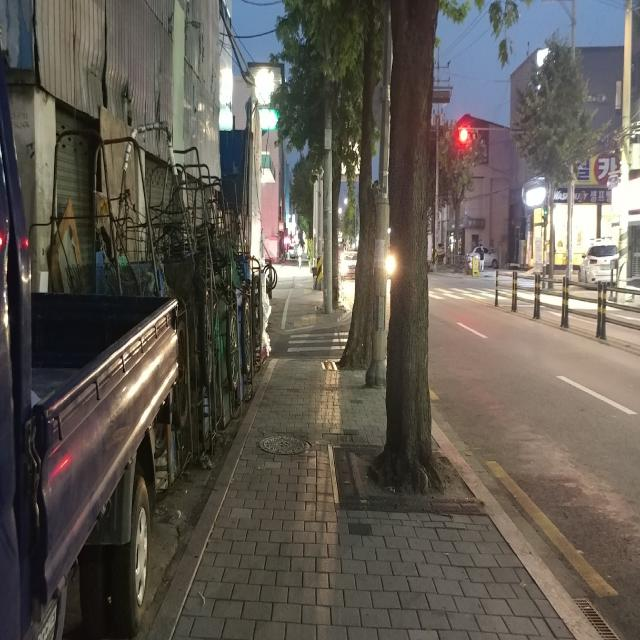횡단보도: (287, 332, 349, 352)
